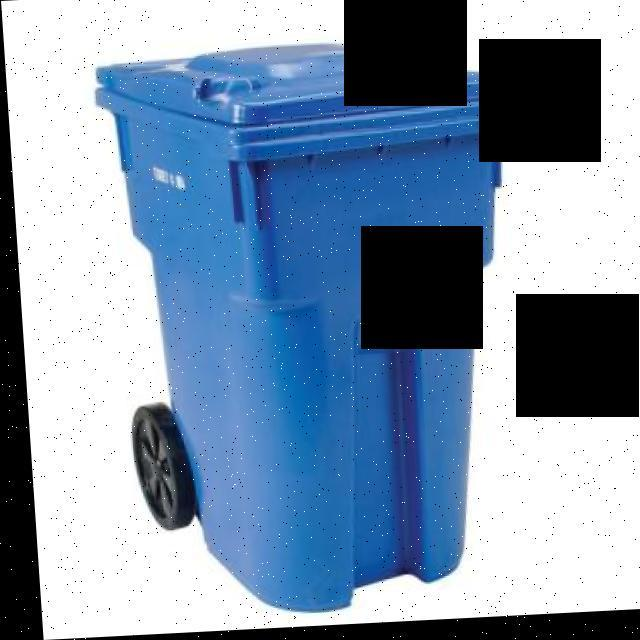bin: (80, 19, 556, 637)
